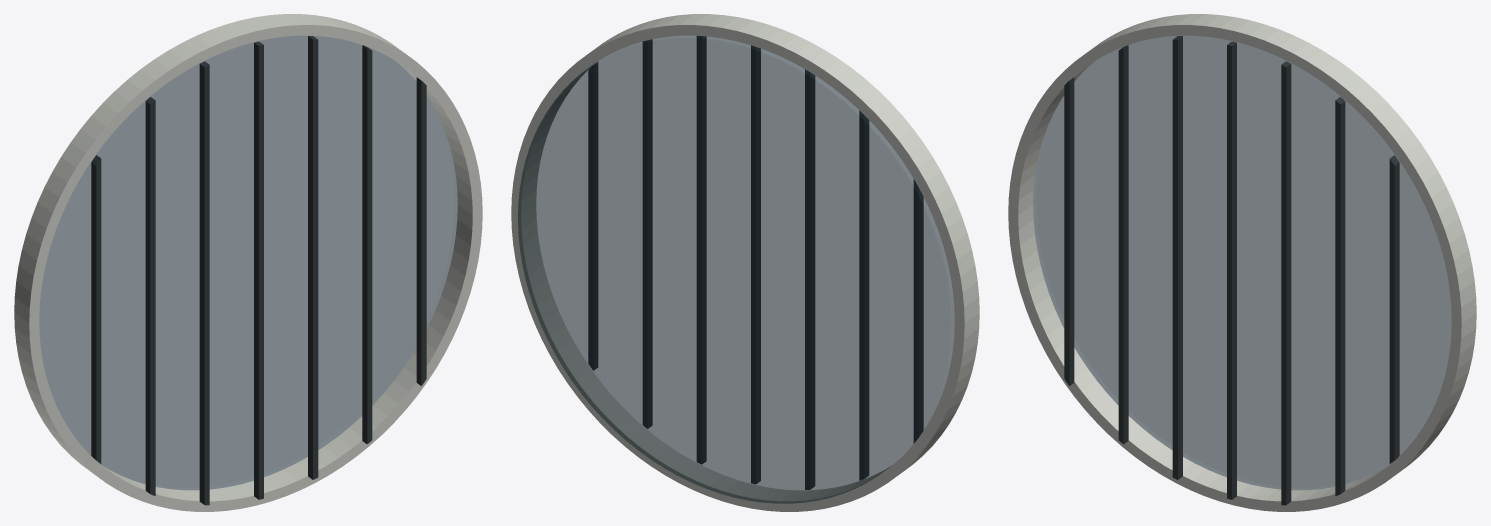
Rendered from moderno_circle_con_reja.glb.
The picture shows the model from 3 angles, left to right: view 1: azimuth 30°, elevation 25°; view 2: azimuth 150°, elevation 25°; view 3: azimuth 330°, elevation 25°; orthographic projection.
Visible parts, largest first — view 1: window_glass#0001, window_reveal#0001, window_grille#0001; view 2: window_glass#0001, window_reveal#0001, window_grille#0001; view 3: window_glass#0001, window_reveal#0001, window_grille#0001.
Boxes of the visible parts, x1=… form: window_glass#0001: x1=39, y1=35, x2=457, y2=490; window_reveal#0001: x1=14, y1=14, x2=482, y2=511; window_grille#0001: x1=91, y1=36, x2=426, y2=505; window_glass#0001: x1=518, y1=35, x2=954, y2=503; window_reveal#0001: x1=511, y1=14, x2=979, y2=511; window_grille#0001: x1=588, y1=36, x2=923, y2=489; window_glass#0001: x1=1033, y1=35, x2=1451, y2=490; window_reveal#0001: x1=1008, y1=14, x2=1476, y2=511; window_grille#0001: x1=1064, y1=36, x2=1399, y2=505.
Size of the model in its own units: 1.6 by 1.6 by 0.145.
